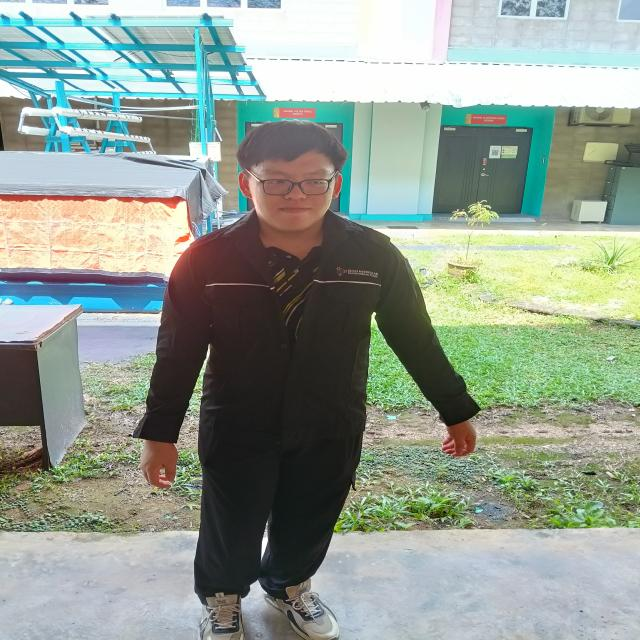person_with_labcoat: (133, 123, 479, 640)
